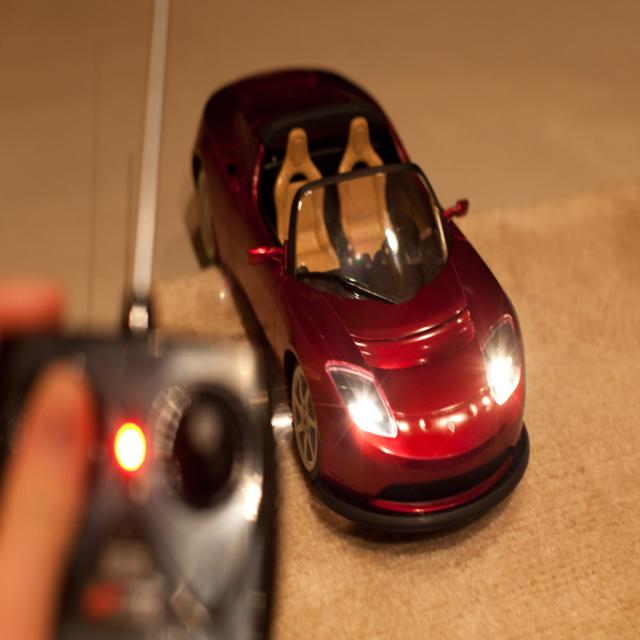car: (183, 68, 528, 542)
